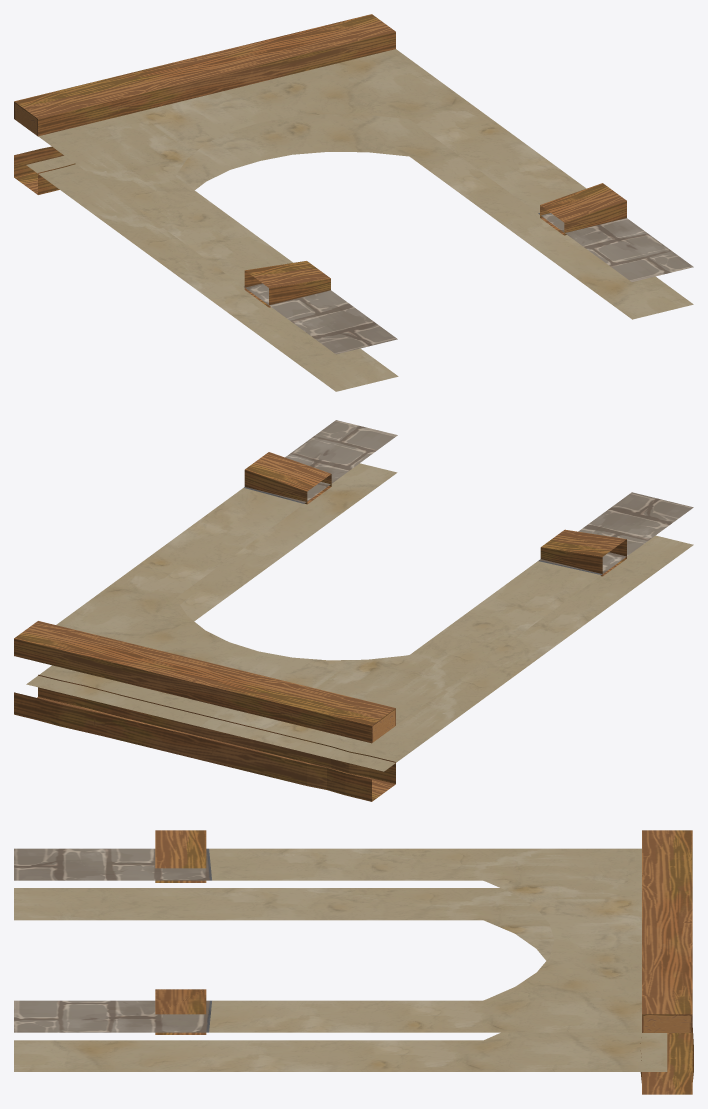
Rendered from Wall_Plaster_Door_Round.fbx.
3 views of the same model, one above another, from view 1: azimuth 30°, elevation 25°; view 2: azimuth 150°, elevation 25°; view 3: azimuth 270°, elevation 25° (orthographic). The views are drawn at different scales.
Parts seen in each view (by area): view 1: Wall_Plaster_Door_Round; view 2: Wall_Plaster_Door_Round; view 3: Wall_Plaster_Door_Round.
Boxes of the visible parts, bbox=[...] form: Wall_Plaster_Door_Round: bbox=[14, 14, 693, 391]; Wall_Plaster_Door_Round: bbox=[14, 420, 693, 801]; Wall_Plaster_Door_Round: bbox=[14, 830, 693, 1094].
Size of the model in its own units: 2 by 0.4065 by 3.12.
